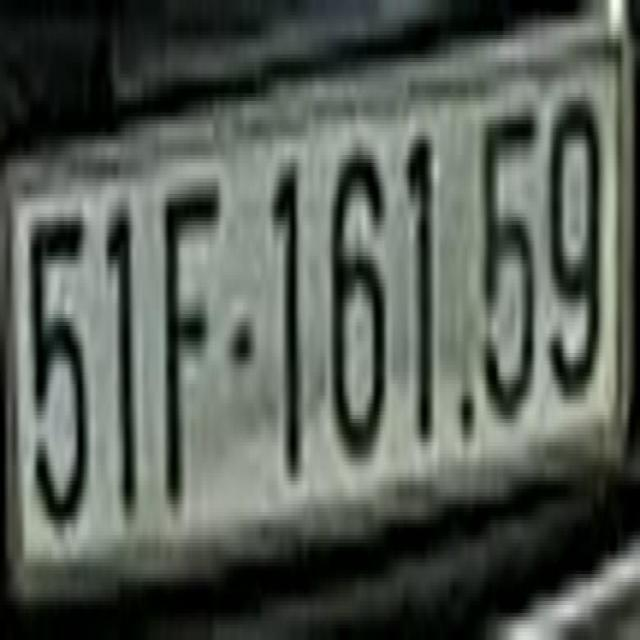1: (266, 144, 308, 492), (104, 190, 140, 524), (403, 132, 439, 454)
5: (30, 198, 90, 551), (478, 97, 539, 423)
6: (328, 143, 392, 466)
9: (546, 97, 608, 411)
F: (159, 175, 226, 512)
